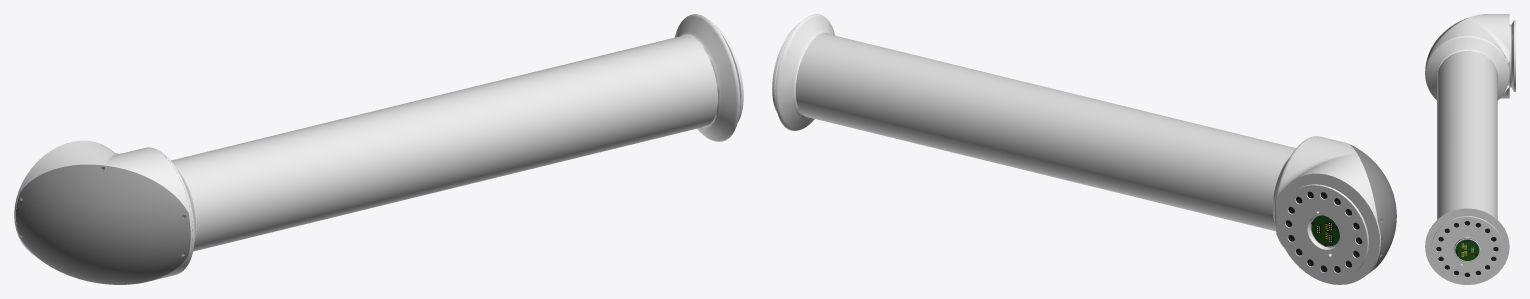
The picture shows the model from 3 angles, left to right: view 1: azimuth 30°, elevation 25°; view 2: azimuth 150°, elevation 25°; view 3: azimuth 270°, elevation 25°; orthographic projection. The views are drawn at different scales.
Parts seen in each view (by area): view 1: L148.001; view 2: L148.001; view 3: L148.001.
Boxes of the visible parts, x1,y1,x2,y2 form: L148.001: [14, 14, 743, 284]; L148.001: [772, 14, 1396, 284]; L148.001: [1425, 14, 1515, 284].
Bounding box in the file's own units: 0.8786 × 0.148 × 0.1589.
